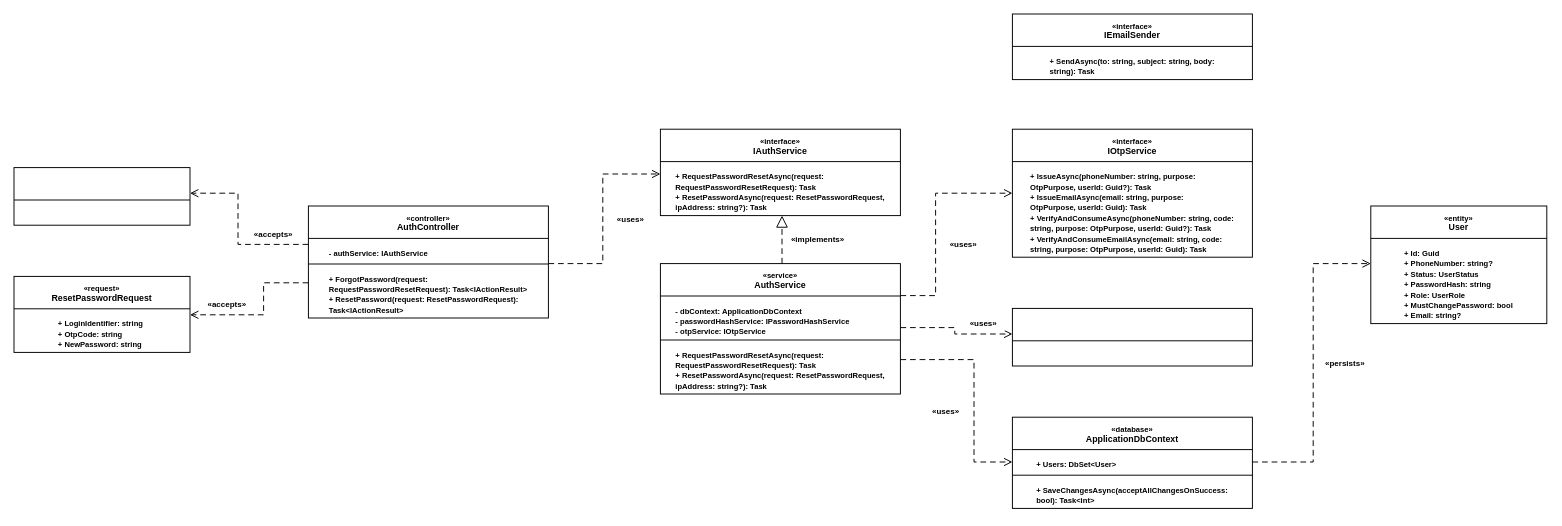
The diagram is 1562 pixels wide and 526 high, and some of its shapes have lost their labels. The centre of each missing label's shape, as x and y in pixels:
"«interface» IPasswordHashService + HashPassword(password: string): string" belongs at (1132,337).
"«request» RequestPasswordResetRequest + LoginIdentifier: string" belongs at (101,196).
